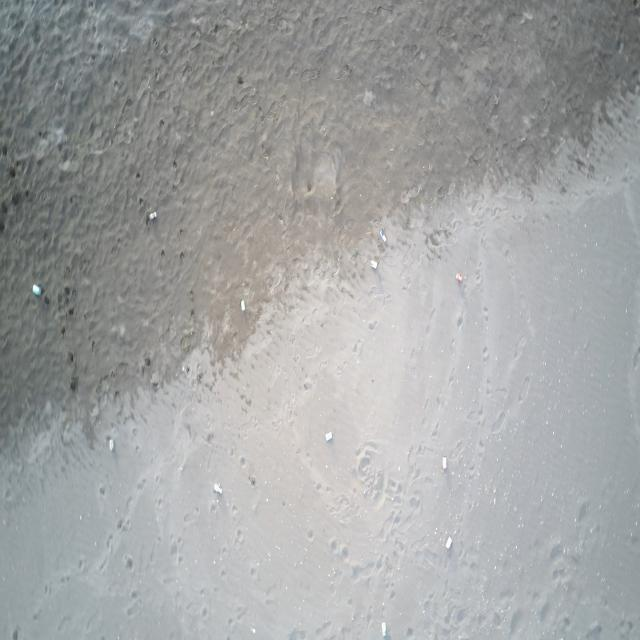Garbage: (32, 283, 42, 296), (70, 375, 77, 391), (379, 227, 386, 243), (107, 436, 114, 451), (444, 535, 452, 548), (380, 620, 386, 636), (148, 209, 156, 220), (455, 272, 462, 283), (324, 431, 332, 440), (213, 483, 220, 493), (368, 260, 376, 268), (443, 455, 447, 470), (240, 299, 244, 311), (44, 295, 48, 303), (251, 627, 255, 633)
